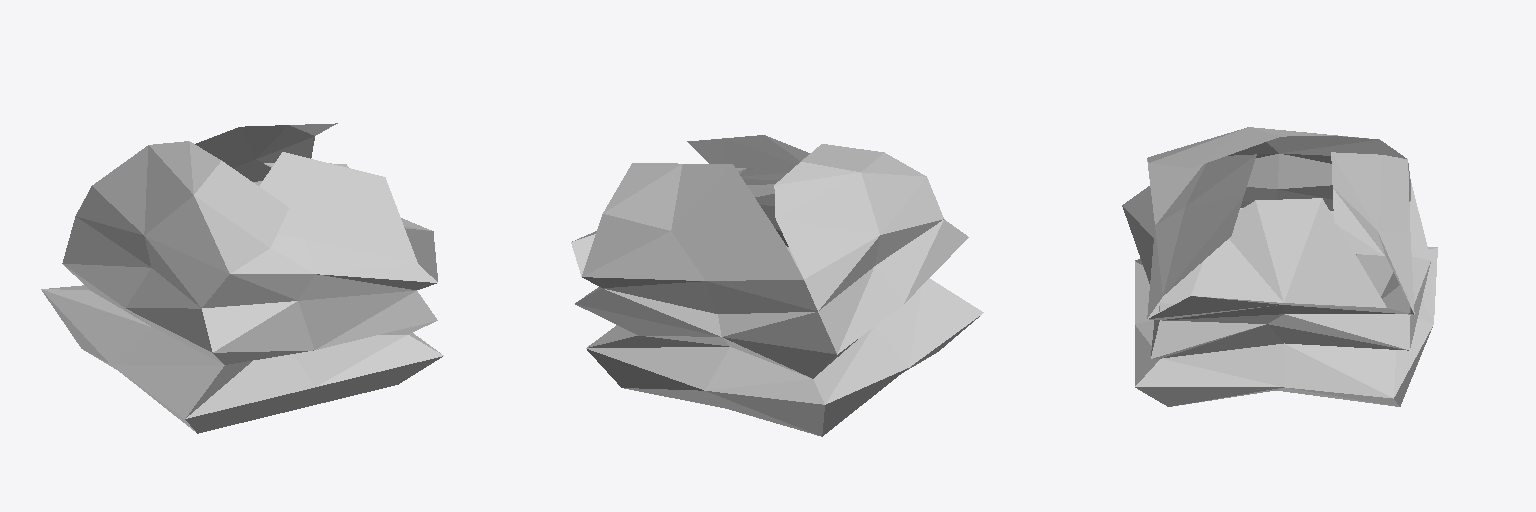
Rendered from Crumpled Chinese Food.obj.
3 renders of one model, left to right at view 1: azimuth 30°, elevation 25°; view 2: azimuth 150°, elevation 25°; view 3: azimuth 270°, elevation 25°, orthographic.
Parts seen in each view (by area): view 1: crumpled_chinese_food; view 2: crumpled_chinese_food; view 3: crumpled_chinese_food.
Part boxes in pixels (left/top/right/bottom): crumpled_chinese_food: left=41, top=123, right=443, bottom=433; crumpled_chinese_food: left=571, top=135, right=983, bottom=436; crumpled_chinese_food: left=1122, top=127, right=1437, bottom=406.
Size of the model in its own units: 0.2086 by 0.1513 by 0.1989.